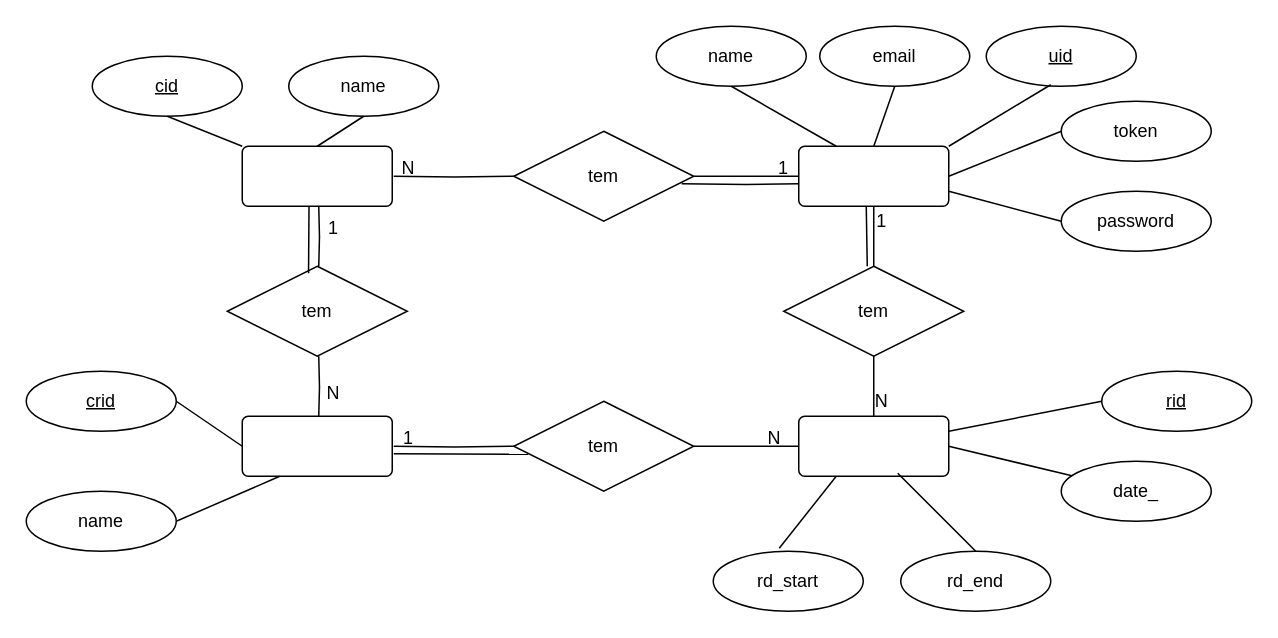
This 1278x638 diagram has some shape labels left out. Here are the shapes that lost their labels. From the top down, the box of each, then its label:
(241, 145, 392, 206): Club
(797, 145, 949, 206): User
(241, 415, 392, 476): Court
(797, 415, 949, 476): Rental
